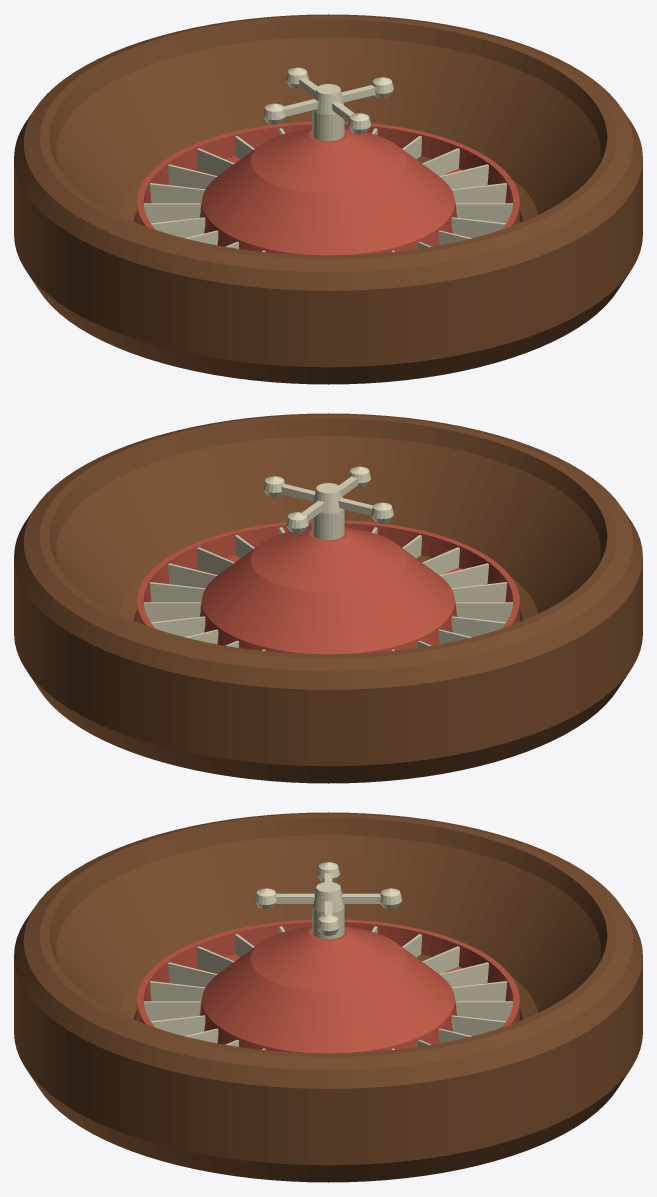
3 renders of one model, top to bottom at view 1: azimuth 30°, elevation 25°; view 2: azimuth 150°, elevation 25°; view 3: azimuth 270°, elevation 25°, orthographic.
Visible parts, largest first — view 1: WholeGroundFootDeepRaceBowl, WholeConicalRotorAndAnnularPocketFloor, WholeCentralSpindle, WholeRadialPocketDivider_10, WholeRadialPocketDivider_22, WholeRadialPocketDivider_09, WholeRadialPocketDivider_23, WholeRadialPocketDivider_00, WholeRadialPocketDivider_08, WholeRadialPocketDivider_11, WholeRadialPocketDivider_21, WholeRadialPocketDivider_01 (+1 smaller); view 2: WholeGroundFootDeepRaceBowl, WholeConicalRotorAndAnnularPocketFloor, WholeCentralSpindle, WholeRadialPocketDivider_02, WholeRadialPocketDivider_14, WholeRadialPocketDivider_01, WholeRadialPocketDivider_15, WholeRadialPocketDivider_00, WholeRadialPocketDivider_16, WholeRadialPocketDivider_03, WholeRadialPocketDivider_13, WholeRadialPocketDivider_17 (+1 smaller); view 3: WholeGroundFootDeepRaceBowl, WholeConicalRotorAndAnnularPocketFloor, WholeCentralSpindle, WholeRadialPocketDivider_06, WholeRadialPocketDivider_18, WholeRadialPocketDivider_07, WholeRadialPocketDivider_17, WholeRadialPocketDivider_08, WholeRadialPocketDivider_16, WholeRadialPocketDivider_05, WholeRadialPocketDivider_19, WholeRadialPocketDivider_09 (+1 smaller).
Boxes of the visible parts, left/top/right/bottom form: WholeGroundFootDeepRaceBowl: left=14, top=14, right=642, bottom=384; WholeConicalRotorAndAnnularPocketFloor: left=137, top=121, right=519, bottom=255; WholeCentralSpindle: left=312, top=84, right=344, bottom=141; WholeRadialPocketDivider_10: left=144, top=203, right=200, bottom=223; WholeRadialPocketDivider_22: left=456, top=203, right=512, bottom=223; WholeRadialPocketDivider_09: left=150, top=183, right=205, bottom=207; WholeRadialPocketDivider_23: left=451, top=183, right=506, bottom=207; WholeRadialPocketDivider_00: left=439, top=164, right=488, bottom=189; WholeRadialPocketDivider_08: left=168, top=164, right=217, bottom=189; WholeRadialPocketDivider_11: left=151, top=217, right=205, bottom=238; WholeRadialPocketDivider_21: left=451, top=217, right=505, bottom=238; WholeRadialPocketDivider_01: left=422, top=148, right=459, bottom=176; WholeGroundFootDeepRaceBowl: left=14, top=413, right=642, bottom=783; WholeConicalRotorAndAnnularPocketFloor: left=137, top=520, right=519, bottom=654; WholeCentralSpindle: left=312, top=483, right=344, bottom=540; WholeRadialPocketDivider_02: left=144, top=602, right=200, bottom=622; WholeRadialPocketDivider_14: left=456, top=602, right=512, bottom=622; WholeRadialPocketDivider_01: left=150, top=582, right=205, bottom=606; WholeRadialPocketDivider_15: left=451, top=582, right=506, bottom=606; WholeRadialPocketDivider_00: left=168, top=563, right=217, bottom=588; WholeRadialPocketDivider_16: left=439, top=563, right=488, bottom=588; WholeRadialPocketDivider_03: left=151, top=616, right=205, bottom=637; WholeRadialPocketDivider_13: left=451, top=616, right=505, bottom=637; WholeRadialPocketDivider_17: left=422, top=547, right=459, bottom=575; WholeGroundFootDeepRaceBowl: left=14, top=812, right=642, bottom=1182; WholeConicalRotorAndAnnularPocketFloor: left=137, top=919, right=519, bottom=1053; WholeCentralSpindle: left=312, top=882, right=344, bottom=939; WholeRadialPocketDivider_06: left=456, top=1001, right=512, bottom=1021; WholeRadialPocketDivider_18: left=144, top=1001, right=200, bottom=1021; WholeRadialPocketDivider_07: left=451, top=981, right=506, bottom=1005; WholeRadialPocketDivider_17: left=150, top=981, right=205, bottom=1005; WholeRadialPocketDivider_08: left=439, top=962, right=488, bottom=987; WholeRadialPocketDivider_16: left=168, top=962, right=217, bottom=987; WholeRadialPocketDivider_05: left=451, top=1015, right=505, bottom=1036; WholeRadialPocketDivider_19: left=151, top=1015, right=205, bottom=1036; WholeRadialPocketDivider_09: left=422, top=946, right=459, bottom=974.
Bounding box in the file's own units: 0.97 × 0.312 × 0.97.
